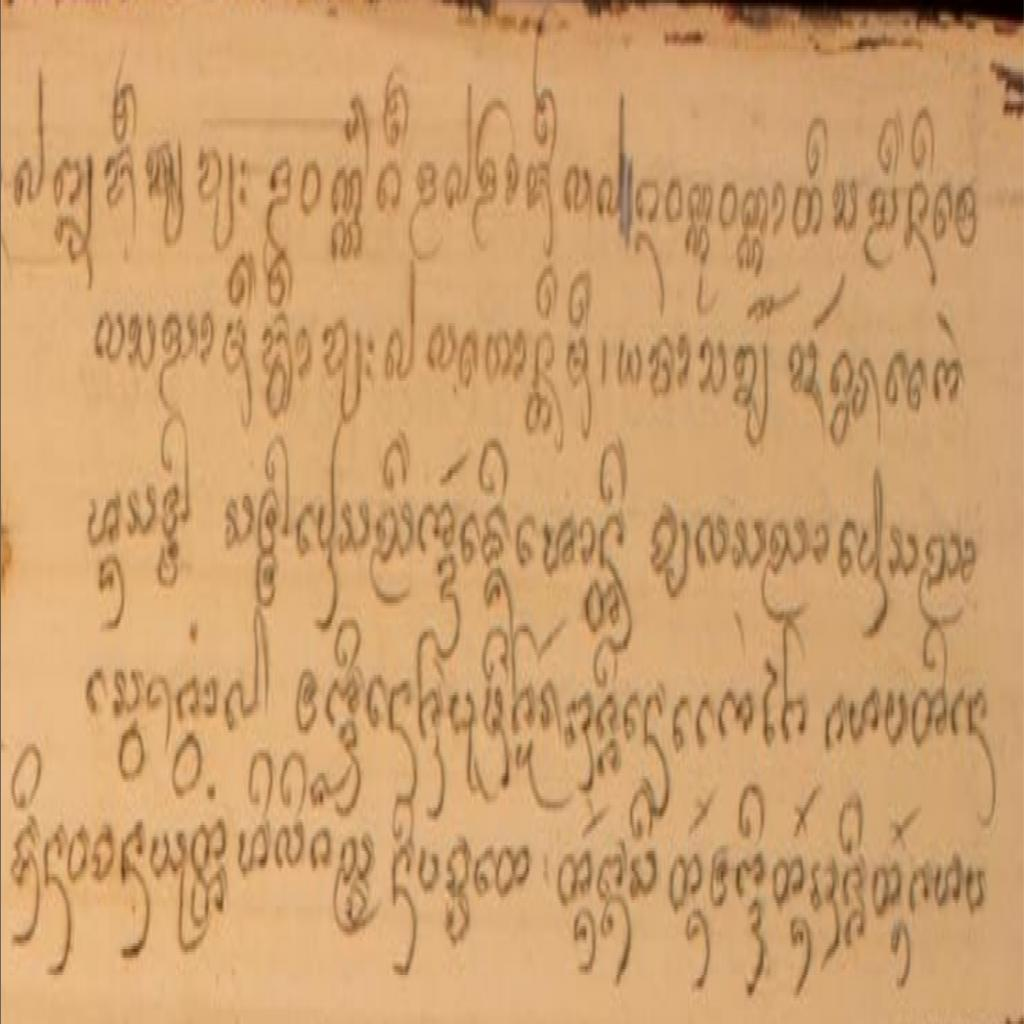LN003: (376, 155, 405, 220)
